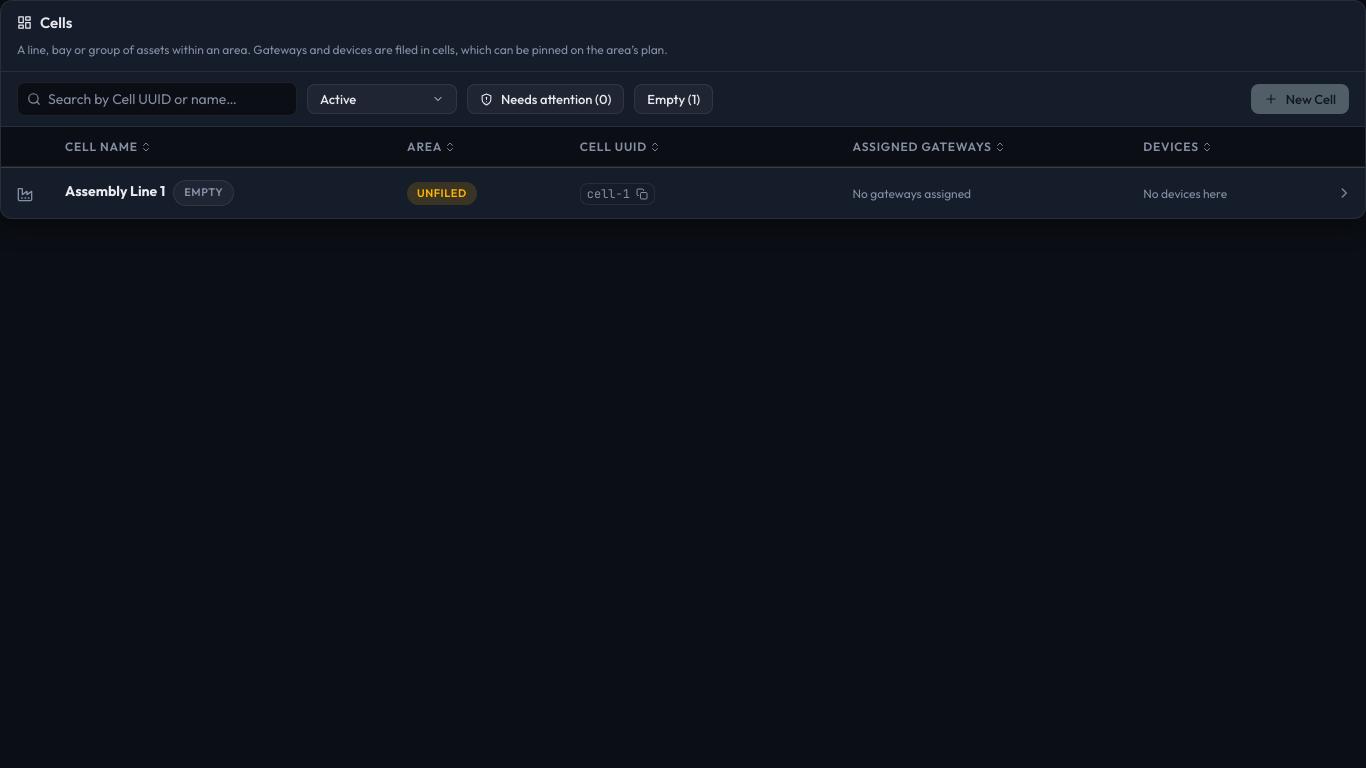
editing a cell › proposes nothing when nothing would change
Click the text "Assembly Line 1": click(115, 191) [1,168,1365,218]
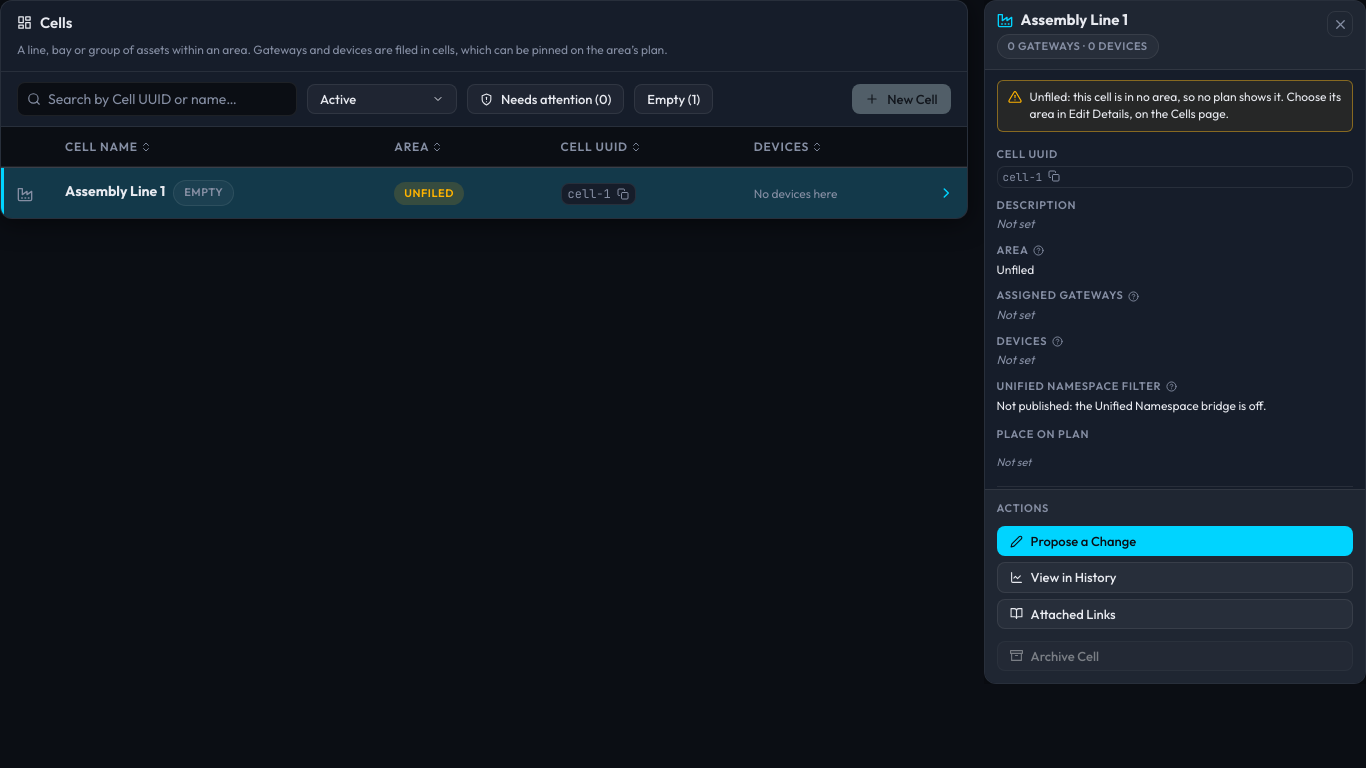
Expected: the button with class "context-action" showing "Propose a Change" is shown
Click the button with class "context-action" showing "Propose a Change": click(1083, 541) [996,526,1353,556]
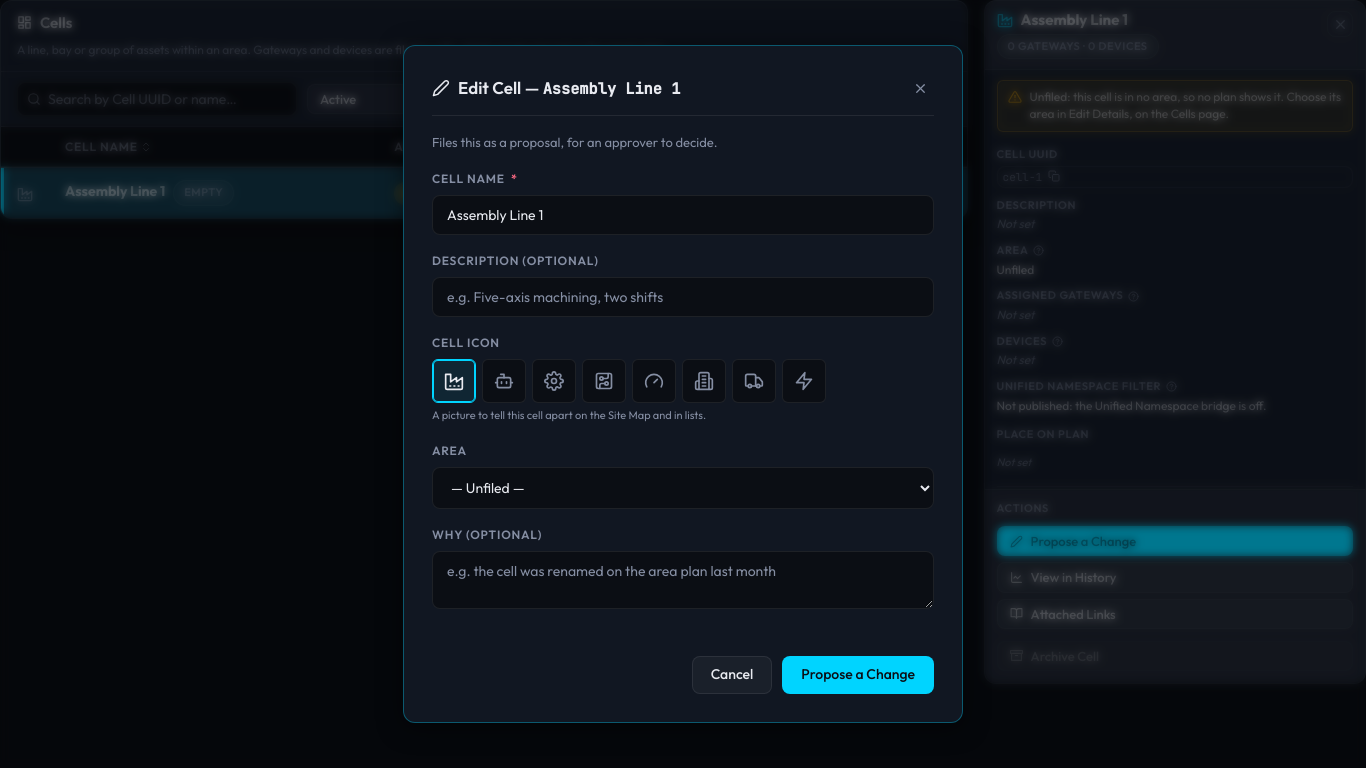
Expected: the button "Propose a Change" is enabled
Click the button "Propose a Change": click(858, 675) [782,656,934,694]
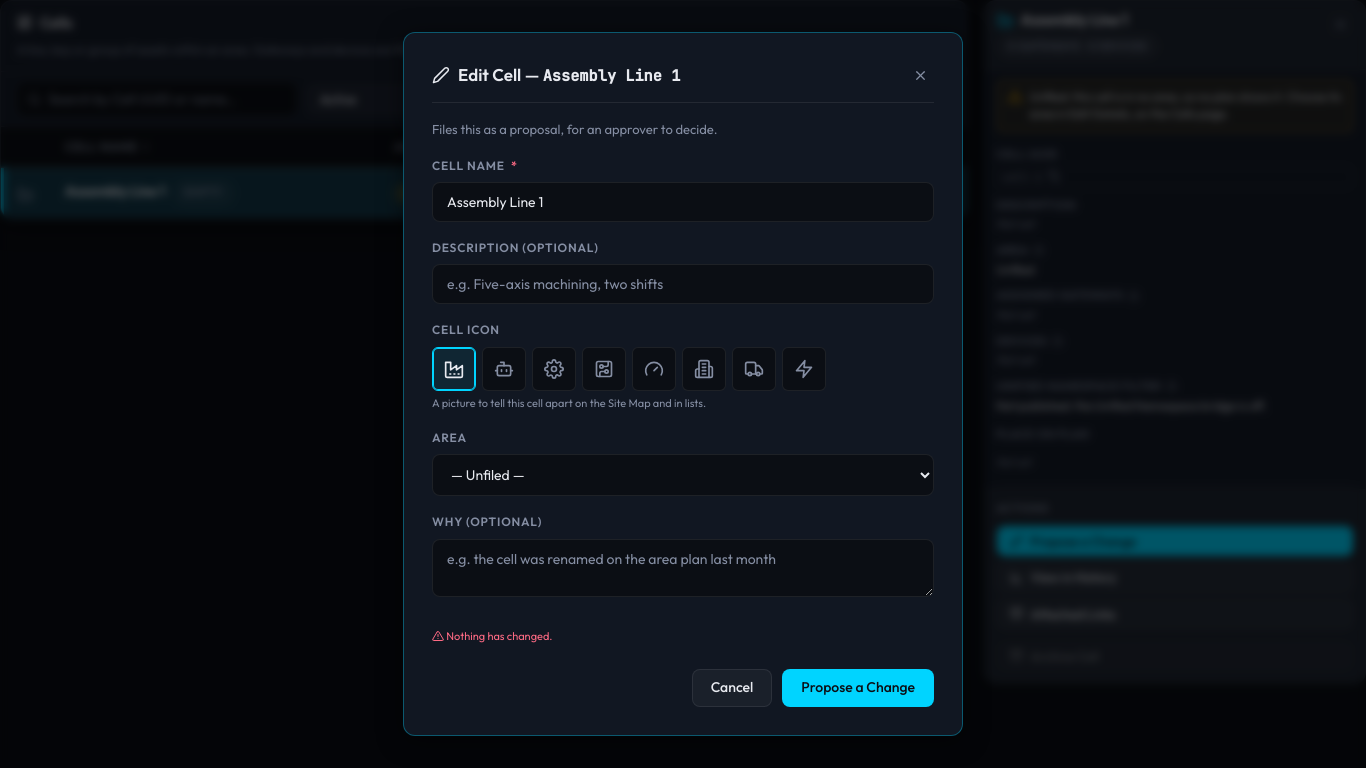
Expected: the element with class "modal-problem" reads "Nothing has changed.", [446,629,552,643]
